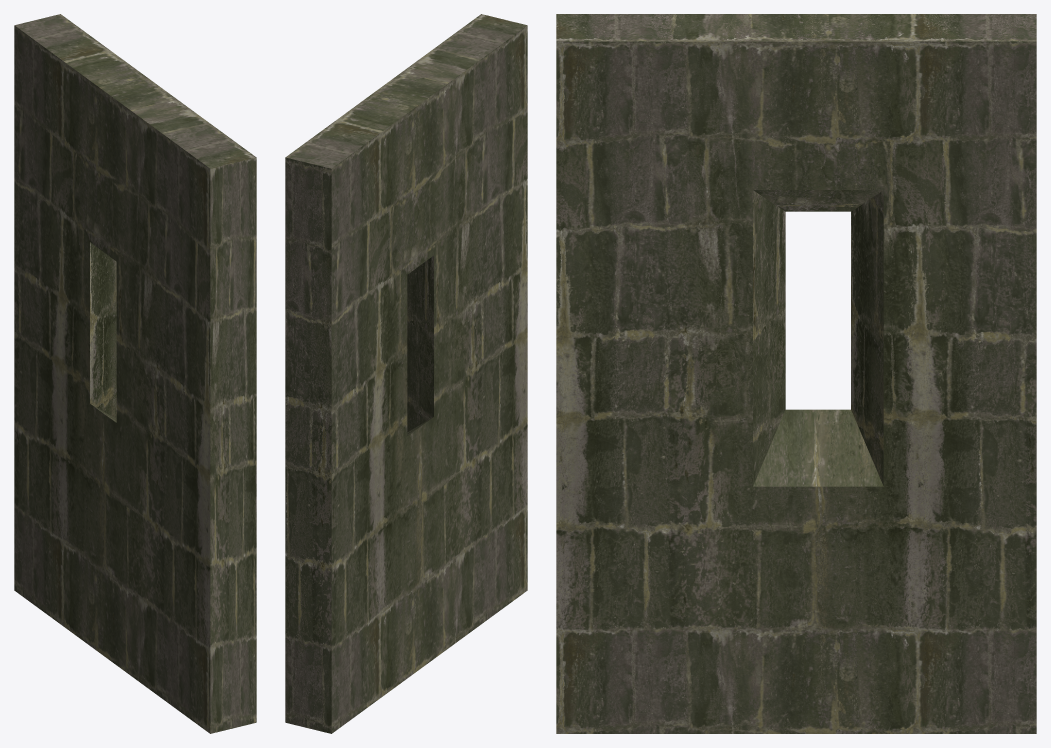
File: VerticalHalfWall_L_Arrowslit.fbx
The picture shows the model from 3 angles, left to right: view 1: azimuth 30°, elevation 25°; view 2: azimuth 150°, elevation 25°; view 3: azimuth 270°, elevation 25°; orthographic projection. The views are drawn at different scales.
Parts seen in each view (by area): view 1: VerticalHalfWall_L_Arrowslit; view 2: VerticalHalfWall_L_Arrowslit; view 3: VerticalHalfWall_L_Arrowslit.
Part boxes in pixels (<box>): VerticalHalfWall_L_Arrowslit: <box>14,14,256,733</box>; VerticalHalfWall_L_Arrowslit: <box>285,14,527,733</box>; VerticalHalfWall_L_Arrowslit: <box>556,14,1036,733</box>.
Bounding box in the file's own units: 51 × 595 × 374.
